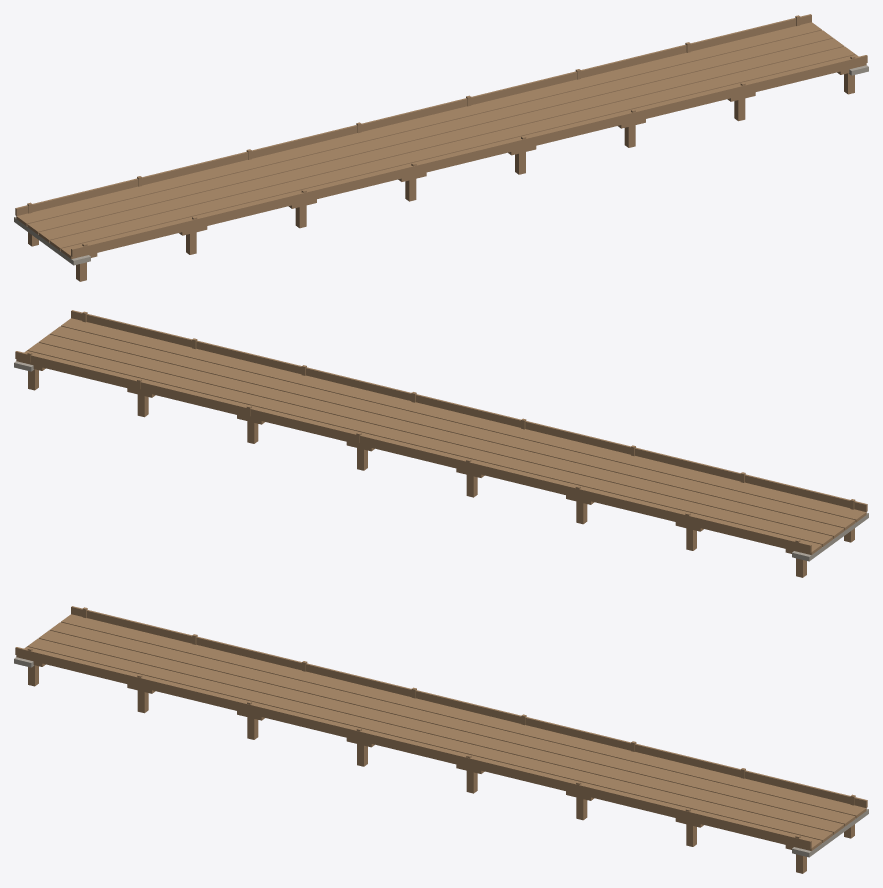
Rendered from bridge-32.gltf.
The picture shows the model from 3 angles, top to bottom: view 1: azimuth 30°, elevation 25°; view 2: azimuth 150°, elevation 25°; view 3: azimuth 330°, elevation 25°; orthographic projection.
Parts seen in each view (by area): view 1: bridge-32; view 2: bridge-32; view 3: bridge-32.
Boxes of the visible parts, left/top/right/bottom form: bridge-32: left=14, top=14, right=868, bottom=281; bridge-32: left=14, top=310, right=868, bottom=577; bridge-32: left=14, top=606, right=868, bottom=873.
Size of the model in its own units: 32 by 1.46 by 4.16.
